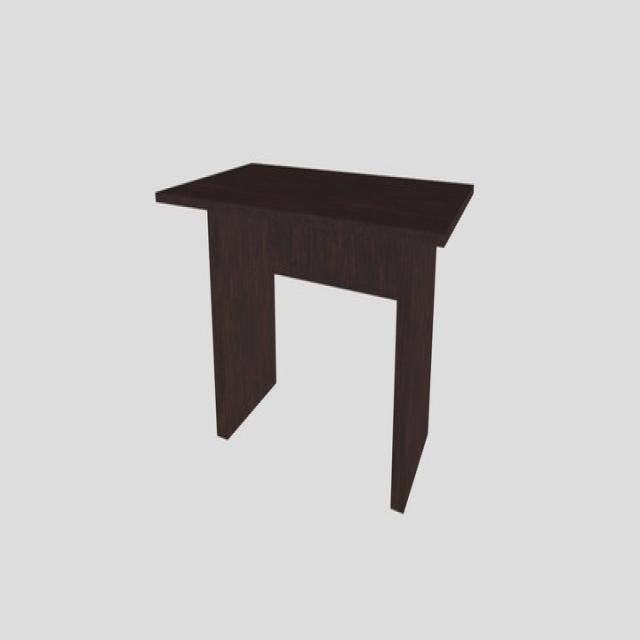table: (156, 161, 474, 515)
